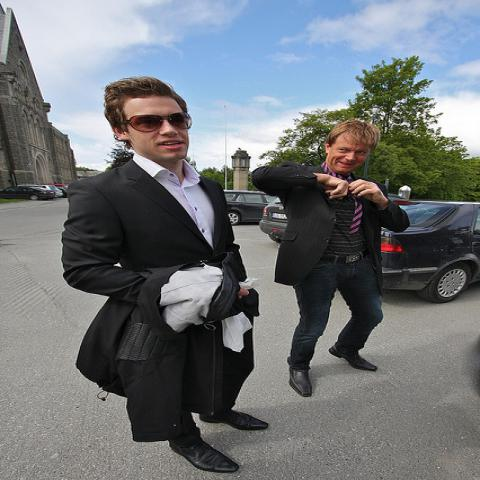car: (381, 198, 479, 304), (226, 190, 273, 225), (262, 198, 287, 242), (0, 186, 56, 200), (16, 184, 65, 198), (45, 184, 69, 190)
